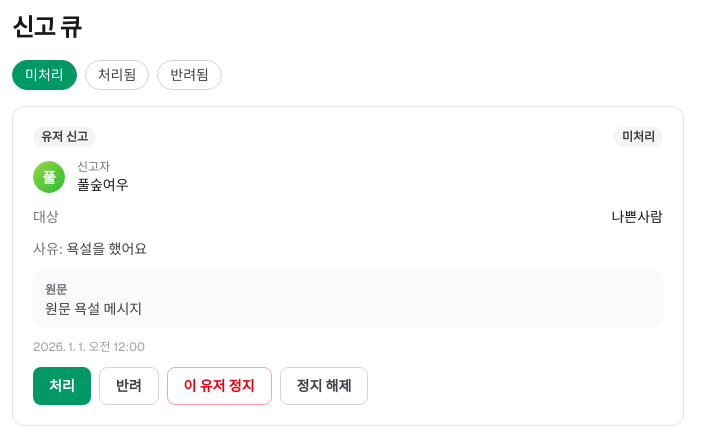
it: ReportList › switching the status filter re-fetches with the new status
Check: the text "풀숲여우" is shown, box [77,175,128,195]
Click the button "처리됨": (117,75) [85,60,149,90]
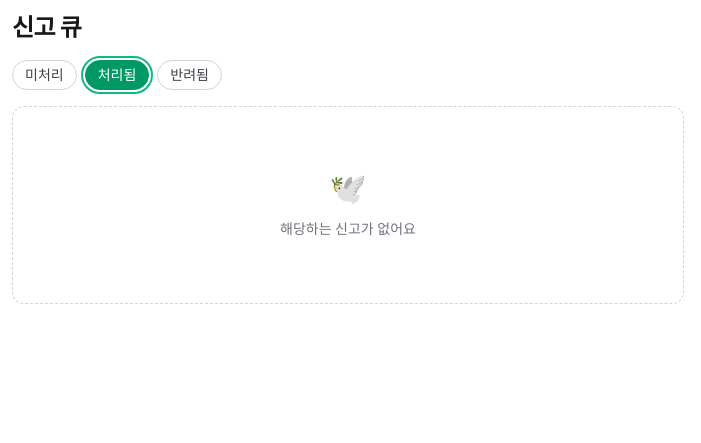
Check: the text "해당하는 신고가 없어요" is shown, box [280,219,416,239]
